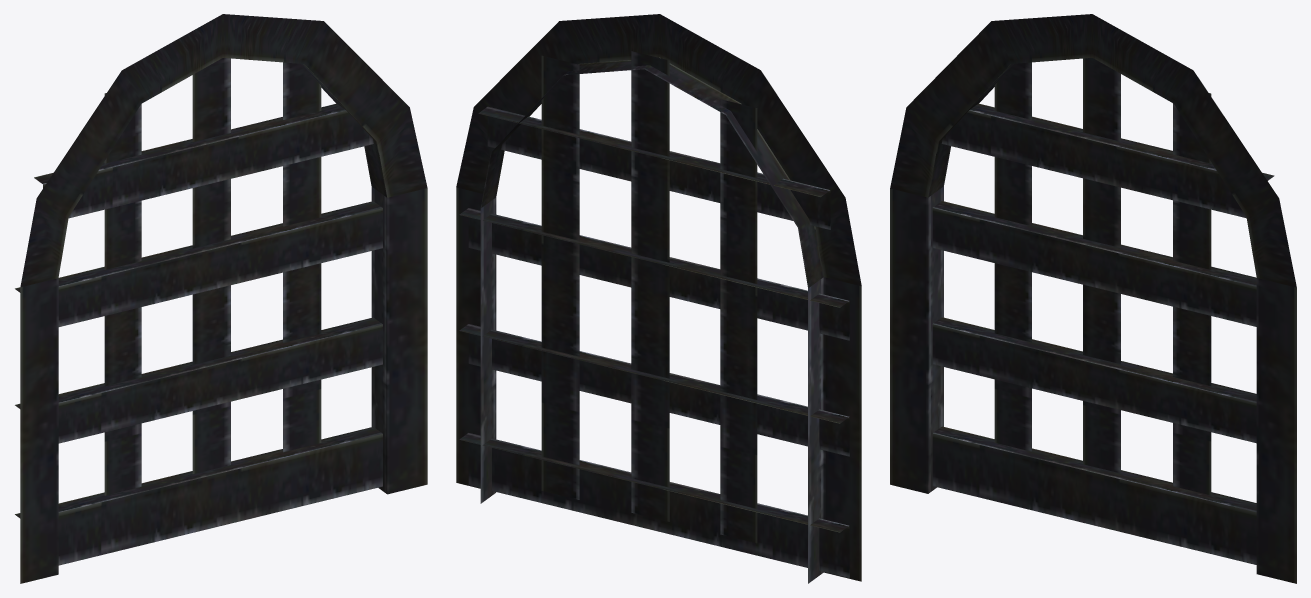
The model's file is tlfb_tiechuang.FBX.
3 views of the same model, side by side, from view 1: azimuth 30°, elevation 25°; view 2: azimuth 150°, elevation 25°; view 3: azimuth 330°, elevation 25° (orthographic).
Visible parts, largest first — view 1: tlfb_tiechuang; view 2: tlfb_tiechuang; view 3: tlfb_tiechuang.
Part boxes in pixels (bbox=[...]): tlfb_tiechuang: bbox=[15, 14, 427, 583]; tlfb_tiechuang: bbox=[456, 14, 861, 583]; tlfb_tiechuang: bbox=[890, 14, 1296, 583].
Bounding box in the file's own units: 361 × 441 × 24.16.
